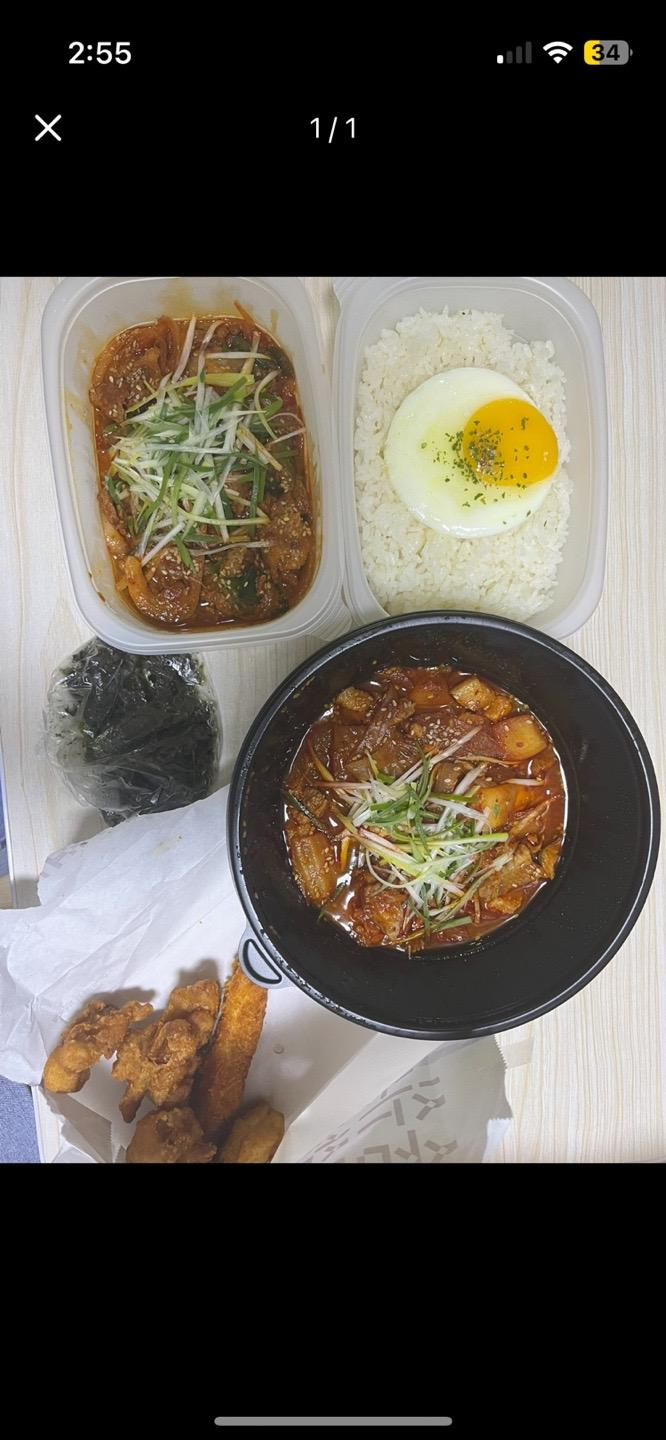Lunch Box: (0, 787, 511, 1163), (228, 613, 659, 1040), (42, 277, 347, 653), (333, 277, 608, 639)
